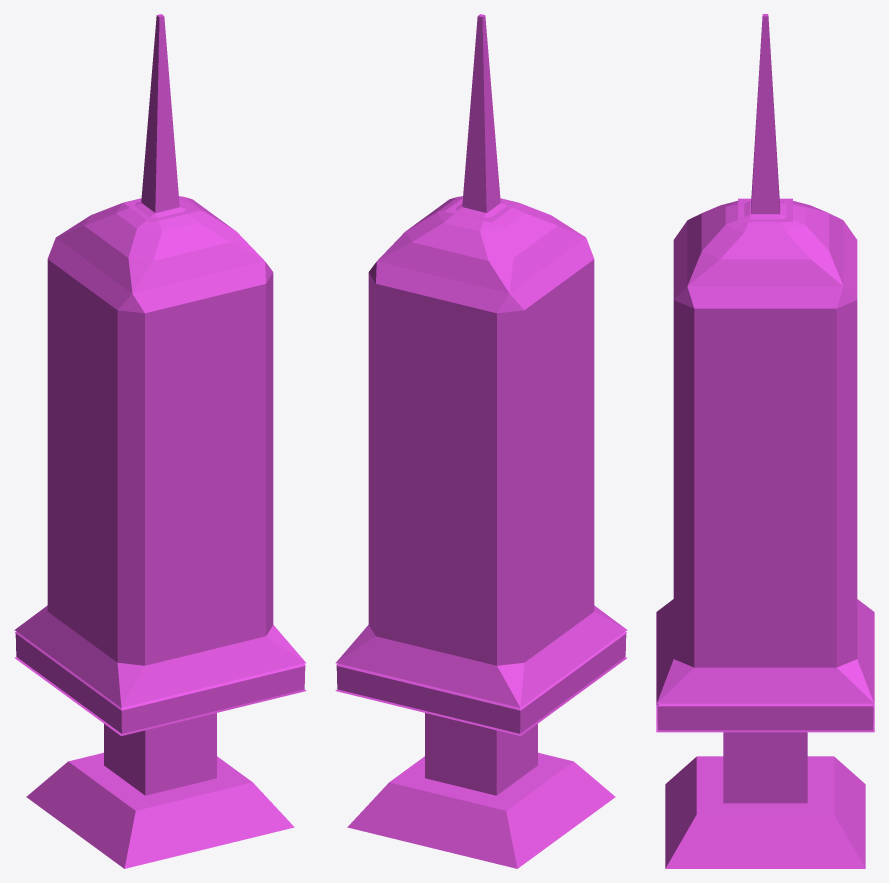
Rendered from Syringe.fbx.
3 views of the same model, side by side, from view 1: azimuth 30°, elevation 25°; view 2: azimuth 150°, elevation 25°; view 3: azimuth 270°, elevation 25° (orthographic).
Visible parts, largest first — view 1: Cube; view 2: Cube; view 3: Cube.
Part boxes in pixels (x1,y1,x2,y2): Cube: (14,14,306,868); Cube: (335,14,627,868); Cube: (656,14,874,868).
Bounding box in the file's own units: 71.58 × 294 × 71.58.
